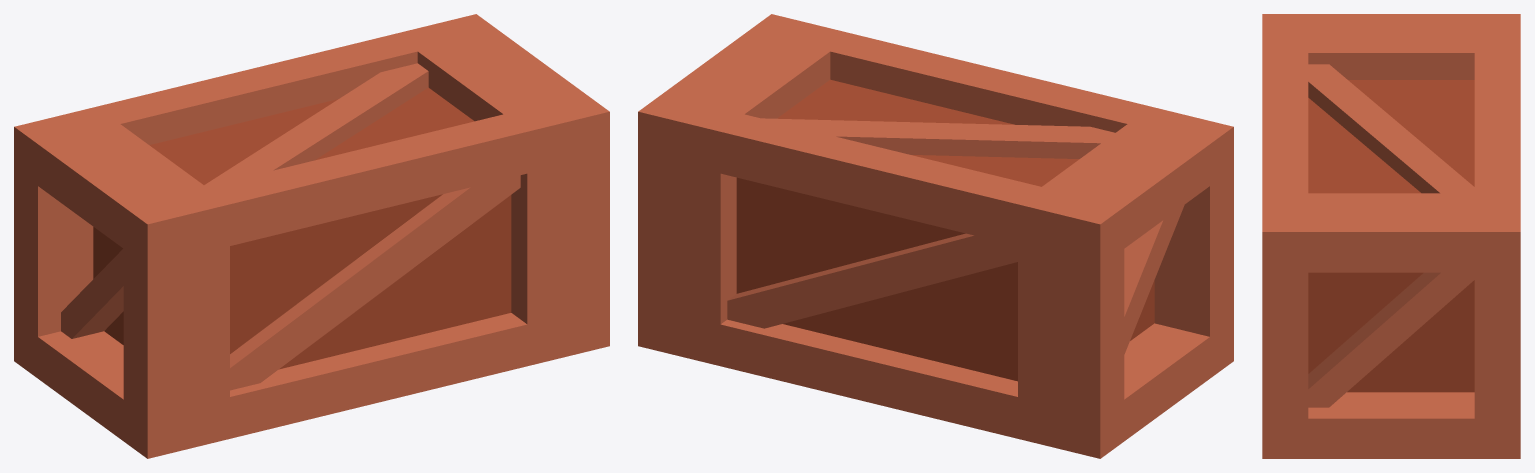
The model's file is Mystery Box test.fbx.
3 renders of one model, left to right at view 1: azimuth 30°, elevation 25°; view 2: azimuth 150°, elevation 25°; view 3: azimuth 270°, elevation 25°, orthographic. The views are drawn at different scales.
Visible parts, largest first — view 1: detail_crate; view 2: detail_crate; view 3: detail_crate.
Part boxes in pixels (<box>): detail_crate: <box>14,14,609,458</box>; detail_crate: <box>638,14,1233,458</box>; detail_crate: <box>1262,14,1520,458</box>.
Size of the model in its own units: 9.9 by 4.8 by 4.95.
